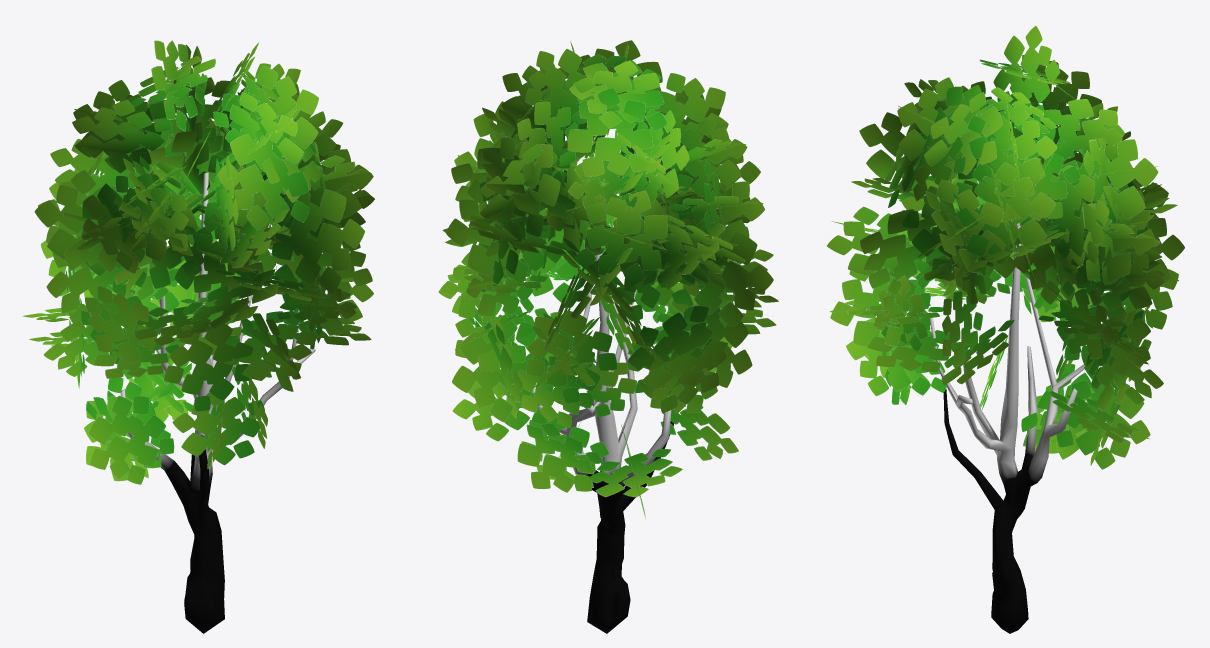
Rendered from model_tree_02b.fbx.
3 views of the same model, side by side, from view 1: azimuth 30°, elevation 25°; view 2: azimuth 150°, elevation 25°; view 3: azimuth 270°, elevation 25° (orthographic).
Parts seen in each view (by area): view 1: TSP_Tree_02B_Crown, TSP_Tree_02B; view 2: TSP_Tree_02B_Crown, TSP_Tree_02B; view 3: TSP_Tree_02B_Crown, TSP_Tree_02B.
Boxes of the visible parts, box(x1,y1,x2,y2) form: TSP_Tree_02B_Crown: box(22, 40, 374, 484); TSP_Tree_02B: box(120, 172, 315, 633); TSP_Tree_02B_Crown: box(438, 40, 778, 519); TSP_Tree_02B: box(532, 246, 673, 633); TSP_Tree_02B_Crown: box(827, 26, 1184, 469); TSP_Tree_02B: box(929, 223, 1108, 633).
Size of the model in its own units: 4.35 by 7.51 by 4.32.
